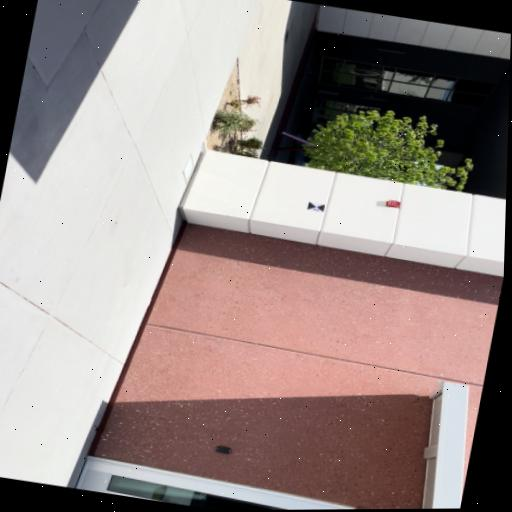target2: (307, 201, 325, 213)
